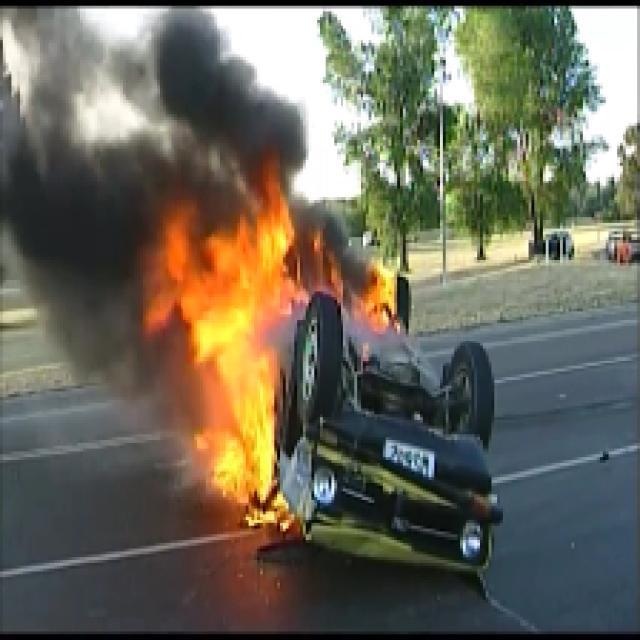Fire: (143, 154, 306, 532), (360, 260, 394, 329)
Smoke: (3, 40, 140, 363)
